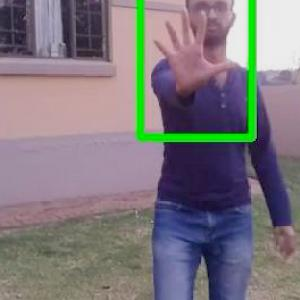follow_hand: (150, 1, 242, 91)
